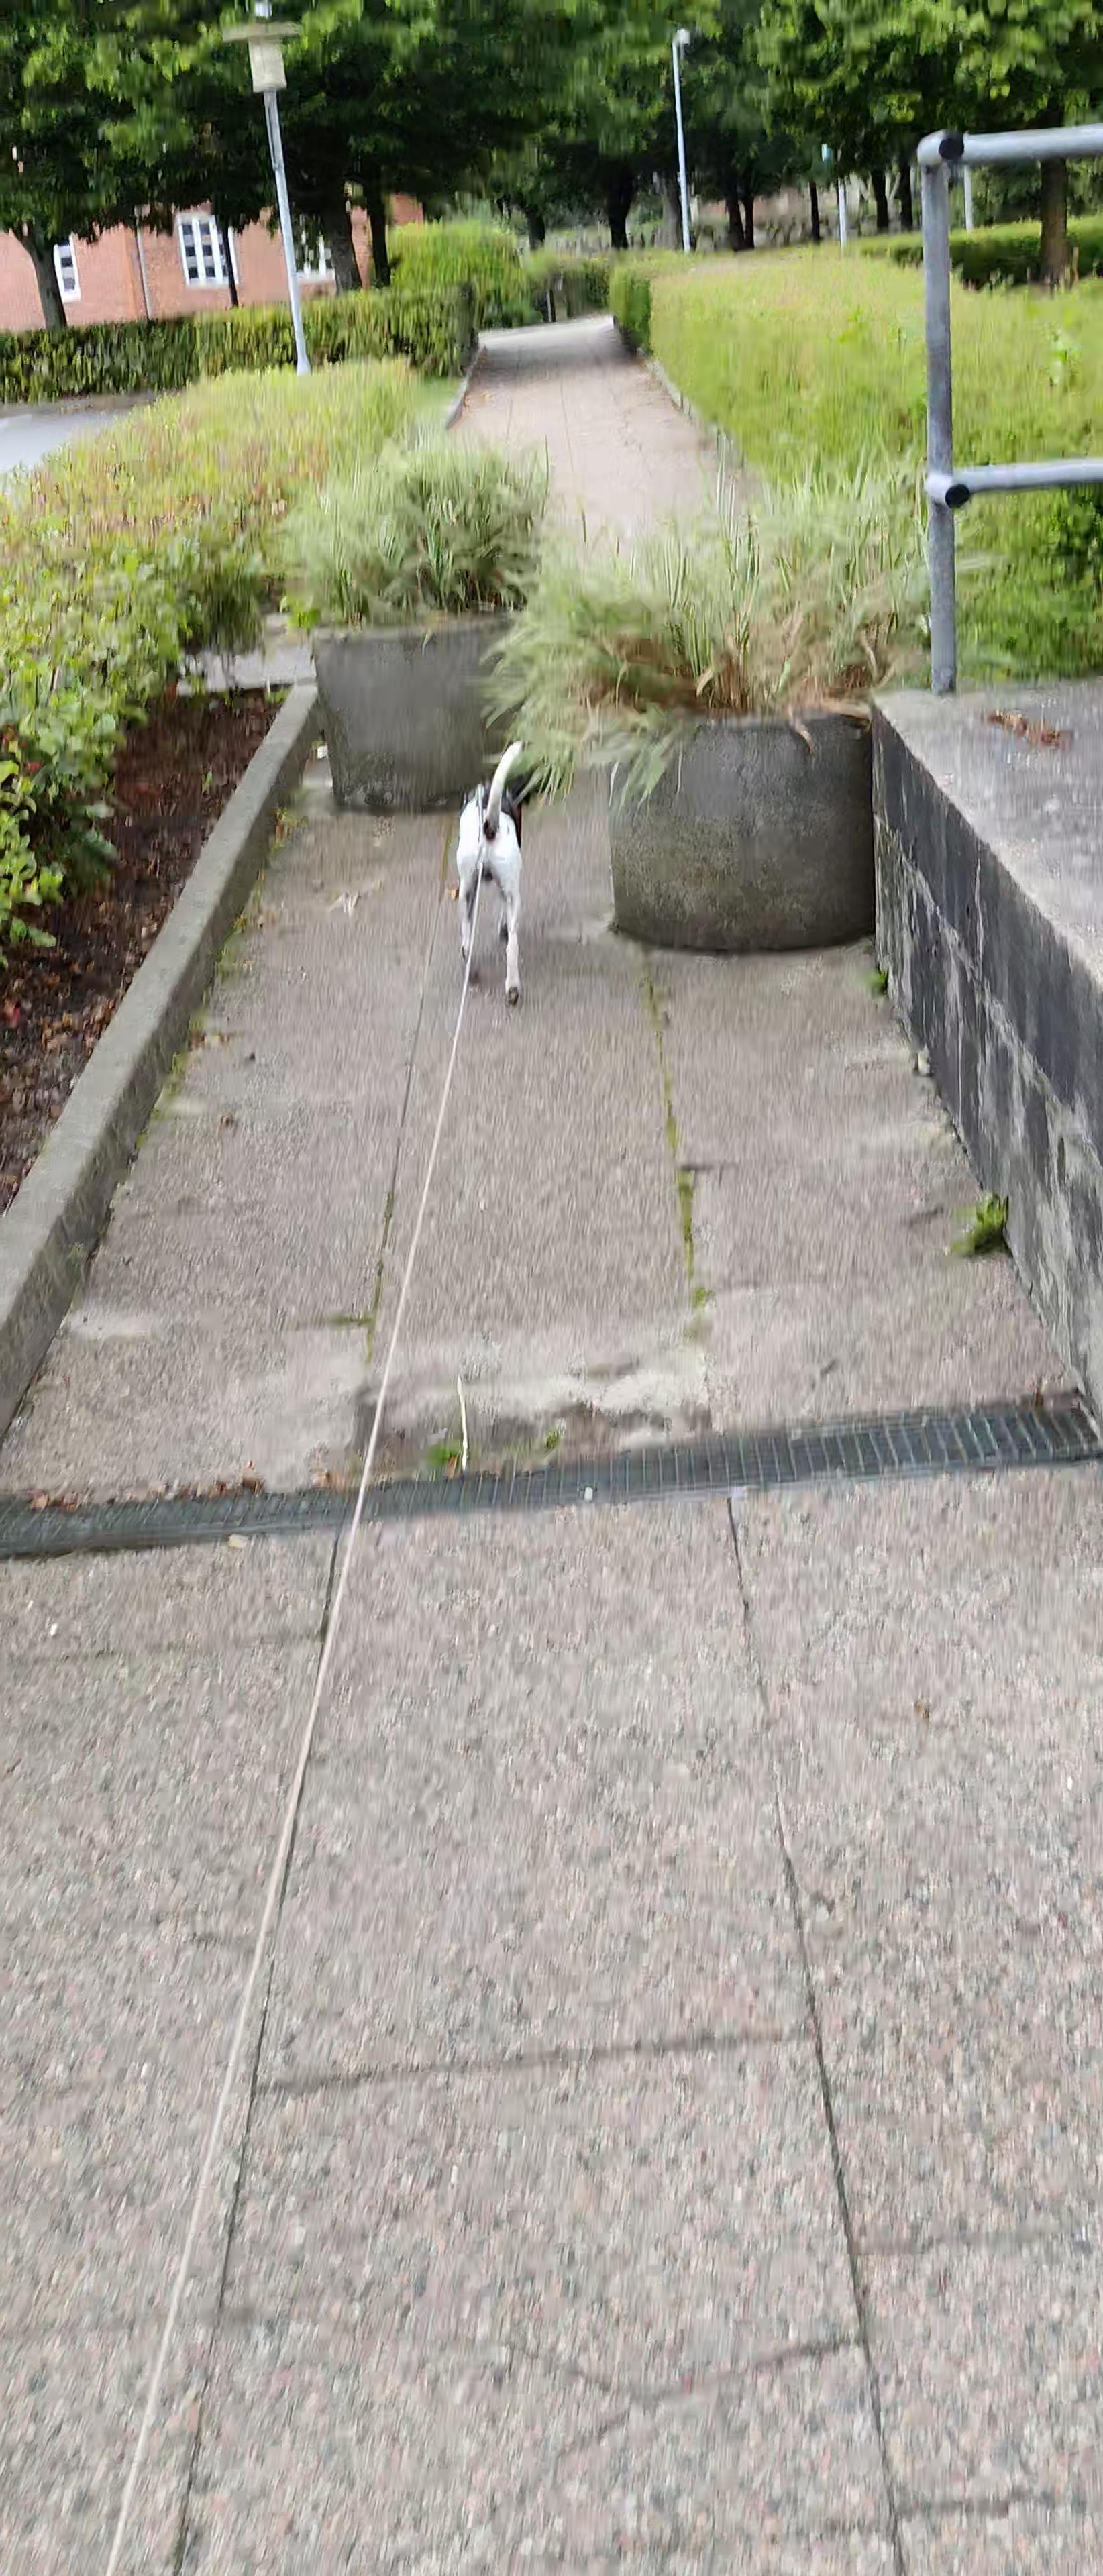Dog: (452, 733, 529, 1009)
